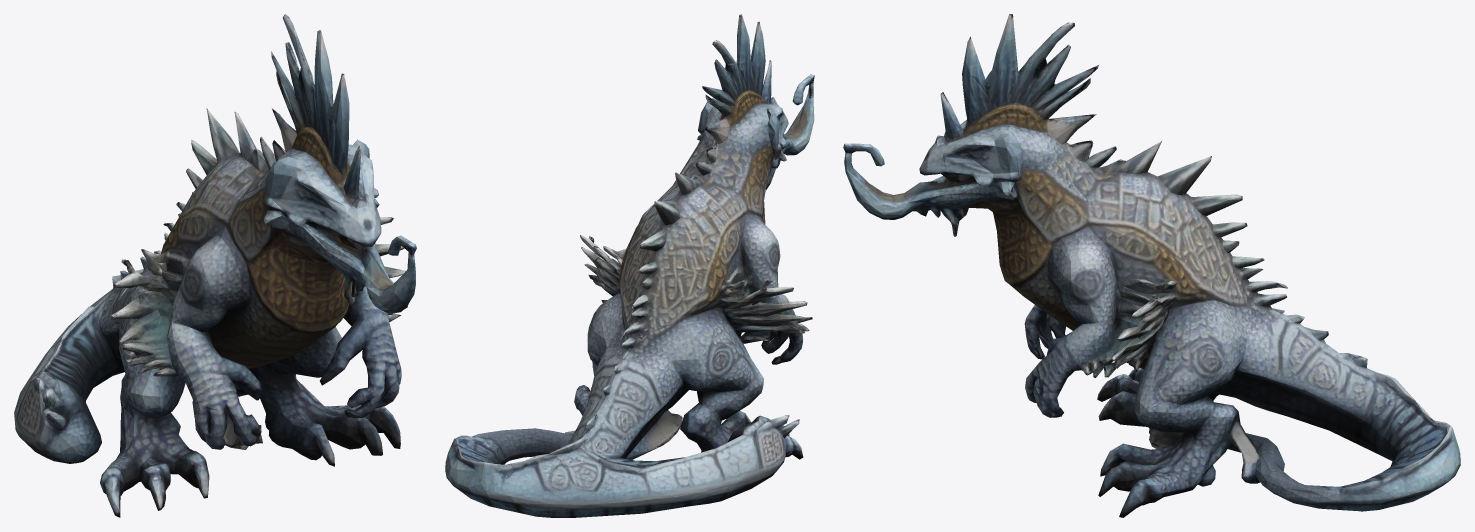
File: rimeBasilisk.glb
The picture shows the model from 3 angles, left to right: view 1: azimuth 30°, elevation 25°; view 2: azimuth 150°, elevation 25°; view 3: azimuth 270°, elevation 25°; orthographic projection. The views are drawn at different scales.
Parts seen in each view (by area): view 1: world; view 2: world; view 3: world.
Boxes of the visible parts, x1=… form: world: x1=14, y1=14, x2=416, y2=517; world: x1=445, y1=14, x2=814, y2=517; world: x1=843, y1=14, x2=1460, y2=517.
Bounding box in the file's own units: 0.5837 × 0.7923 × 1.
1 material, 1 textured.
